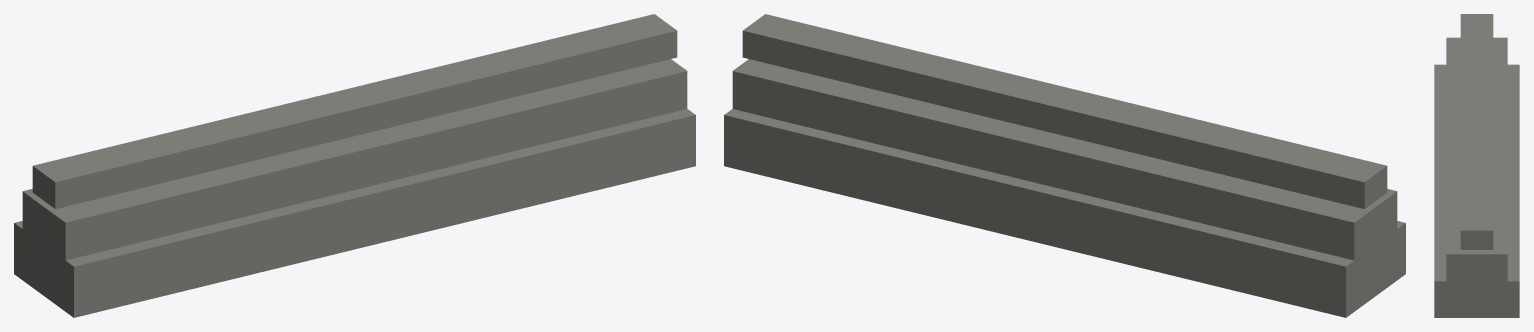
3 renders of one model, left to right at view 1: azimuth 30°, elevation 25°; view 2: azimuth 150°, elevation 25°; view 3: azimuth 270°, elevation 25°, orthographic. The views are drawn at different scales.
Visible parts, largest first — view 1: dam_embankment_v1; view 2: dam_embankment_v1; view 3: dam_embankment_v1.
Boxes of the visible parts, bbox=[...] form: dam_embankment_v1: bbox=[14, 14, 695, 317]; dam_embankment_v1: bbox=[724, 14, 1405, 317]; dam_embankment_v1: bbox=[1434, 14, 1519, 317].
Bounding box in the file's own units: 48 × 9 × 8.
Materials: 1 (1 with a texture image).
